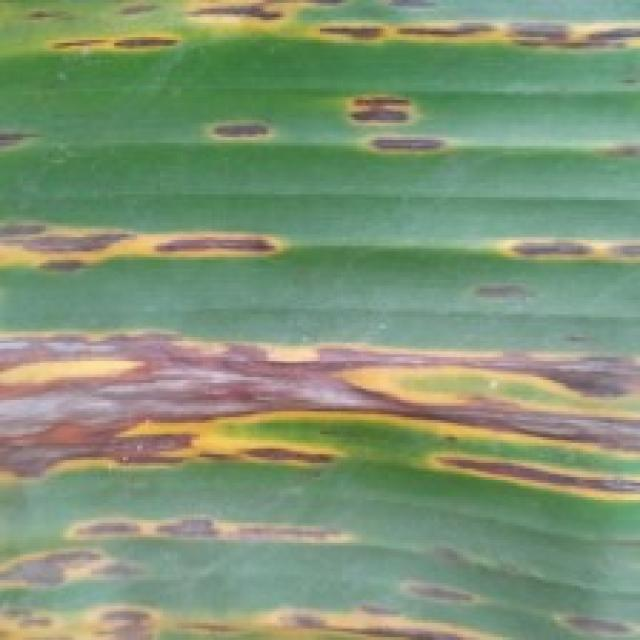Early_leaf_spot: (0, 311, 640, 512), (0, 492, 640, 640), (189, 0, 637, 77), (0, 194, 300, 294), (451, 199, 640, 303), (12, 0, 198, 72), (334, 74, 449, 168), (551, 128, 640, 176), (205, 105, 276, 151), (0, 106, 44, 160)
